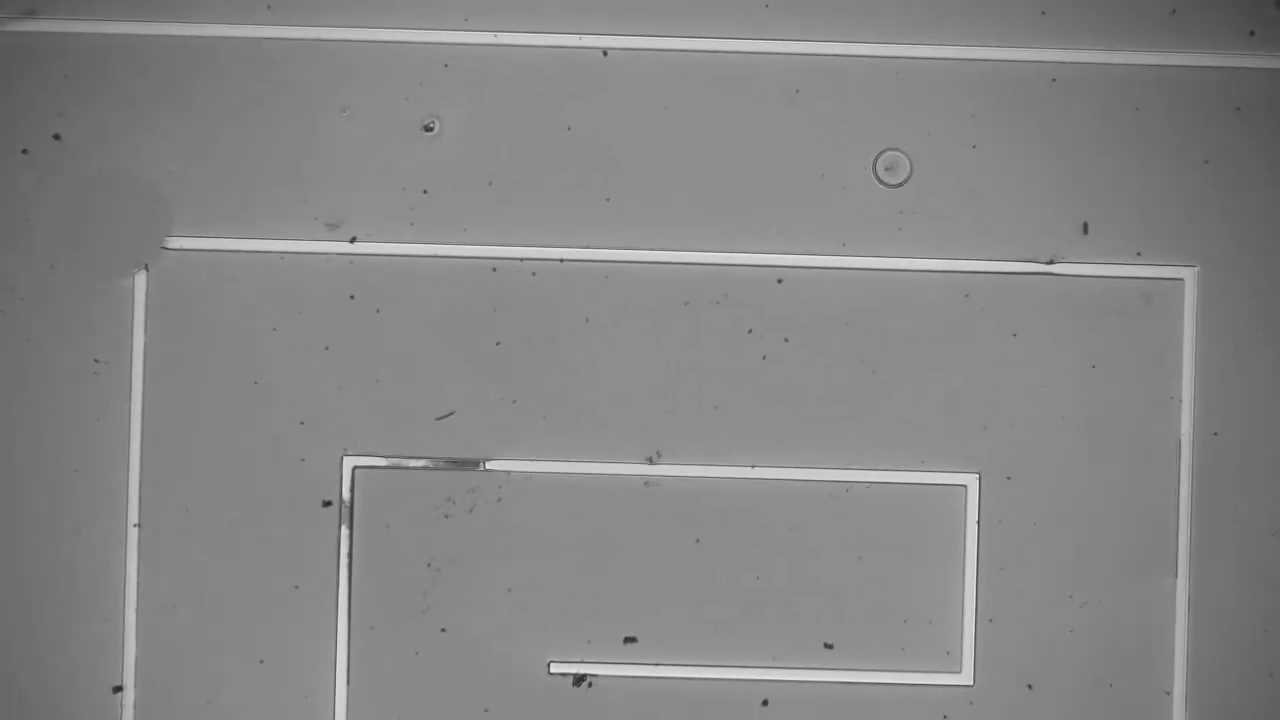gray_line: (413, 442, 510, 487), (331, 482, 367, 552)
open: (110, 204, 197, 303)
